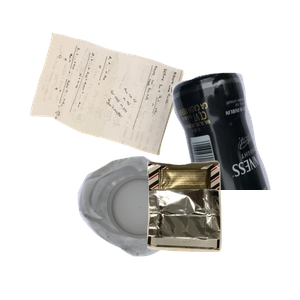glass: (106, 70, 300, 250)
paper: (27, 30, 203, 178)
plastic: (75, 154, 248, 300)
trash: (144, 158, 300, 300)
